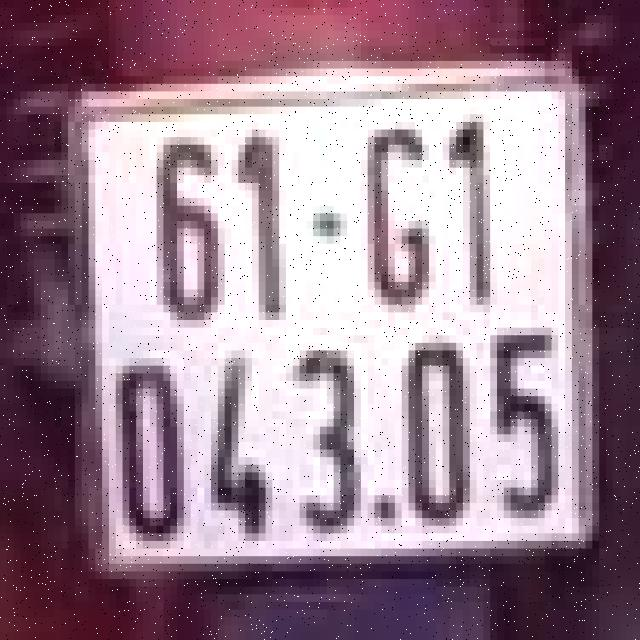0: (112, 354, 188, 537), (398, 339, 473, 522)
1: (231, 126, 293, 324), (443, 114, 497, 320)
3: (290, 343, 364, 541)
4: (201, 347, 269, 537)
5: (487, 320, 562, 518)
6: (153, 130, 228, 328)
G: (358, 122, 432, 312)
